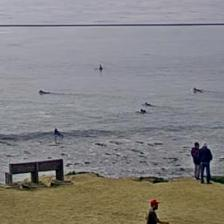surfer: (193, 87, 203, 93), (54, 128, 60, 136), (39, 90, 50, 94), (144, 102, 152, 107), (98, 64, 103, 71), (140, 109, 146, 113)
